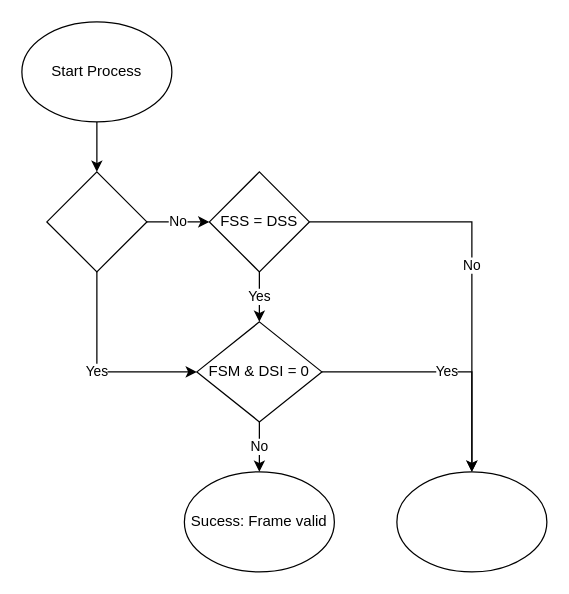
Some shapes in this 569 by 594 pixel diagram are drawn without their labels. The shapes that lost their labels are listed below. From the top down, each one's centre as x and y in pixels, then its label:
At point (96, 221): "FSS = 0xF".
At point (471, 521): "Failure: Frame invalid".
